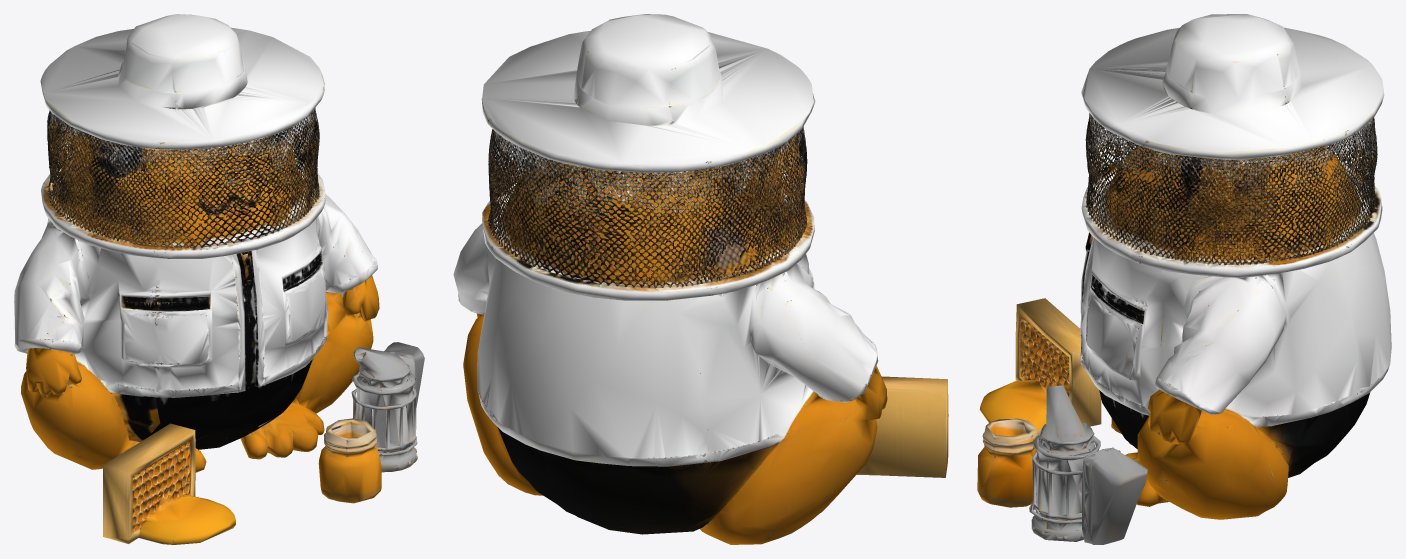
Rendered from apicultrice.glb.
3 renders of one model, left to right at view 1: azimuth 30°, elevation 25°; view 2: azimuth 150°, elevation 25°; view 3: azimuth 270°, elevation 25°, orthographic. The views are drawn at different scales.
Visible parts, largest first — view 1: mesh_node; view 2: mesh_node; view 3: mesh_node.
Part boxes in pixels (box(x1,y1,x2,y2)): mesh_node: box(14, 14, 424, 544); mesh_node: box(453, 14, 948, 544); mesh_node: box(977, 14, 1391, 544).
Size of the model in its own units: 1.8 by 1.9 by 1.64.
Materials: 1 (1 with a texture image).
